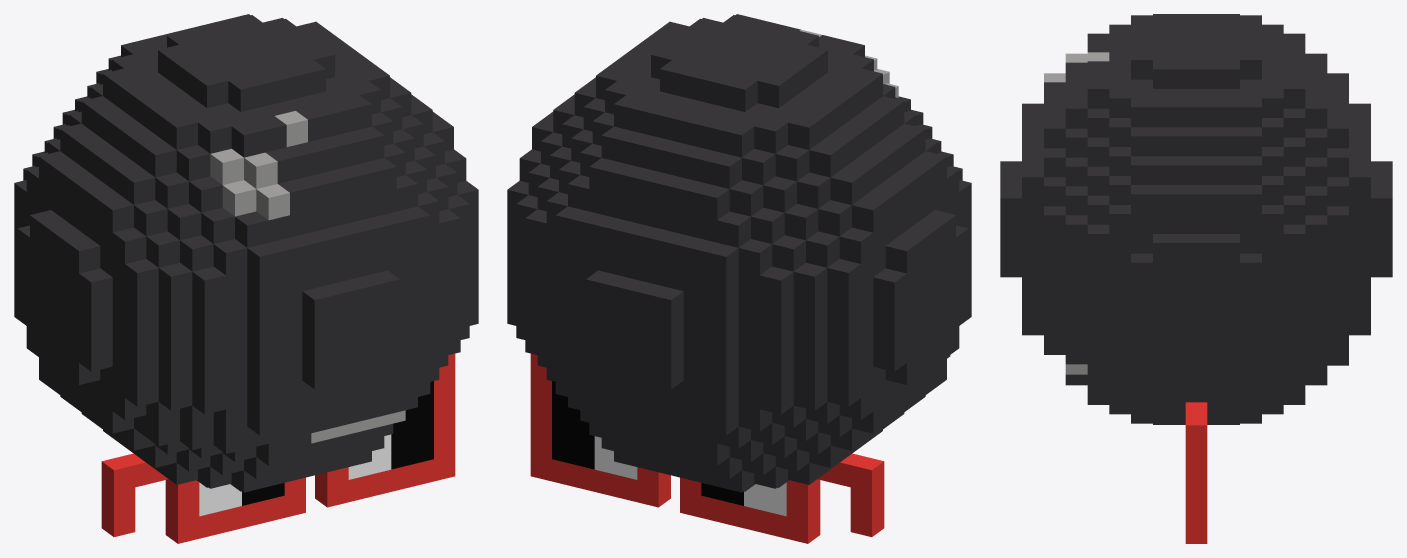
File: bomb.glb
3 views of the same model, side by side, from view 1: azimuth 30°, elevation 25°; view 2: azimuth 150°, elevation 25°; view 3: azimuth 270°, elevation 25° (orthographic). The views are drawn at different scales.
Visible parts, largest first — view 1: Base, monture, glass (1), mouth; view 2: Base, monture, glass (1); view 3: Base, monture.
Boxes of the visible parts, bbox=[...] form: Base: bbox=[14, 14, 478, 492]; monture: bbox=[101, 353, 455, 543]; glass (1): bbox=[199, 381, 433, 516]; mouth: bbox=[311, 410, 405, 443]; Base: bbox=[507, 14, 971, 492]; monture: bbox=[530, 353, 884, 543]; glass (1): bbox=[552, 381, 786, 516]; Base: bbox=[1000, 14, 1392, 424]; monture: bbox=[1185, 402, 1207, 543].
Bounding box in the file's own units: 18.5 × 21 × 18.
Materials: 10 (10 with a texture image).
